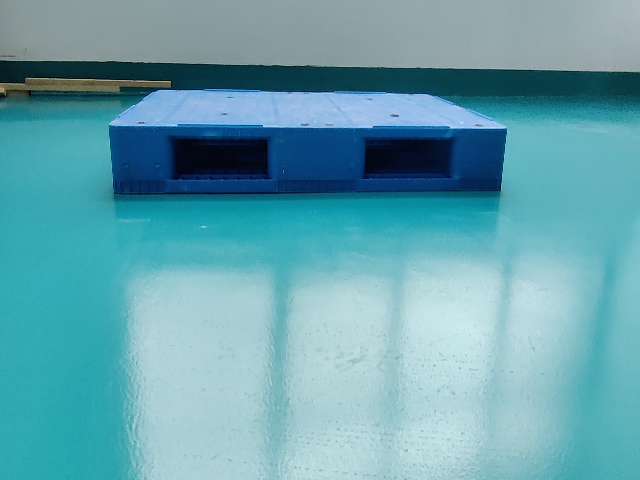block: (269, 127, 367, 191), (111, 124, 171, 191), (450, 128, 505, 193)
